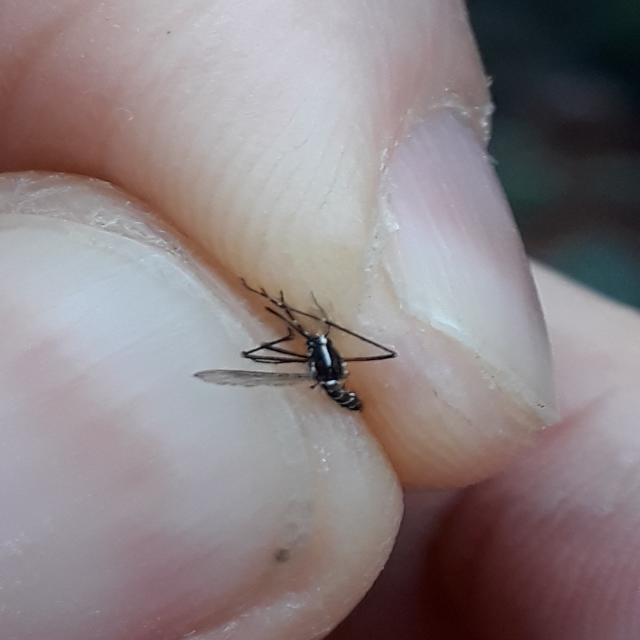albopictus: (198, 269, 402, 416)
